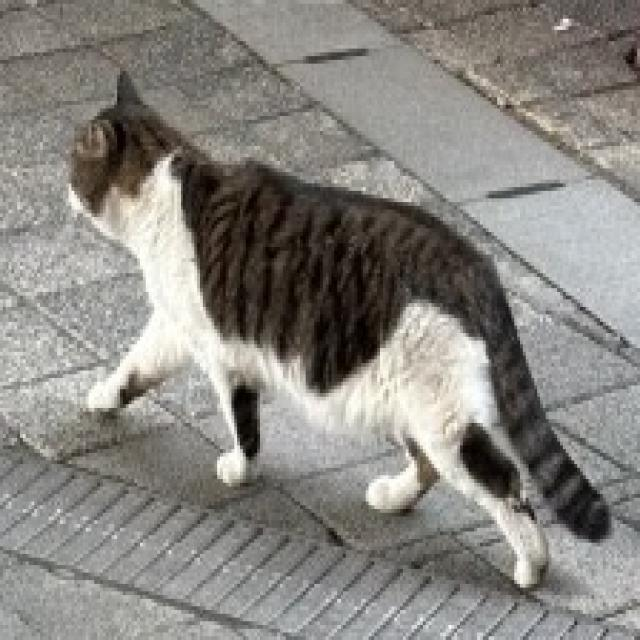cat: (13, 61, 617, 600)
